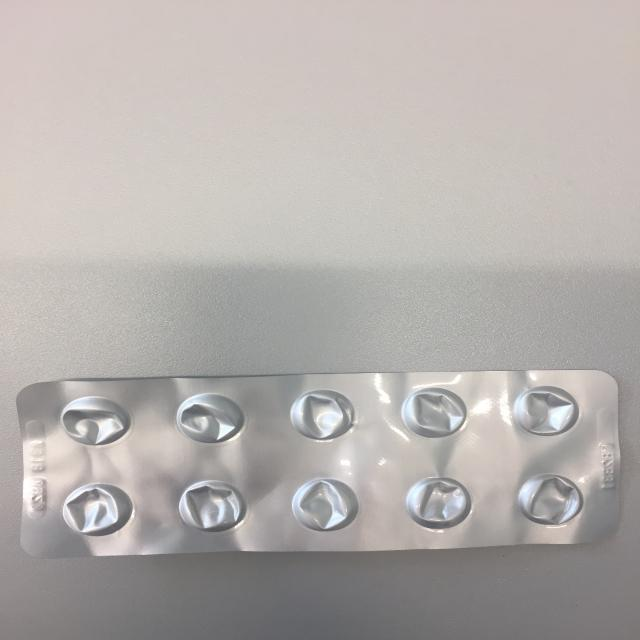Empty: (284, 475, 364, 534), (172, 477, 250, 534), (59, 482, 138, 538), (395, 384, 474, 439), (400, 474, 476, 531), (514, 472, 590, 528), (56, 395, 136, 447), (172, 391, 247, 445), (506, 386, 583, 438), (286, 388, 358, 442)
